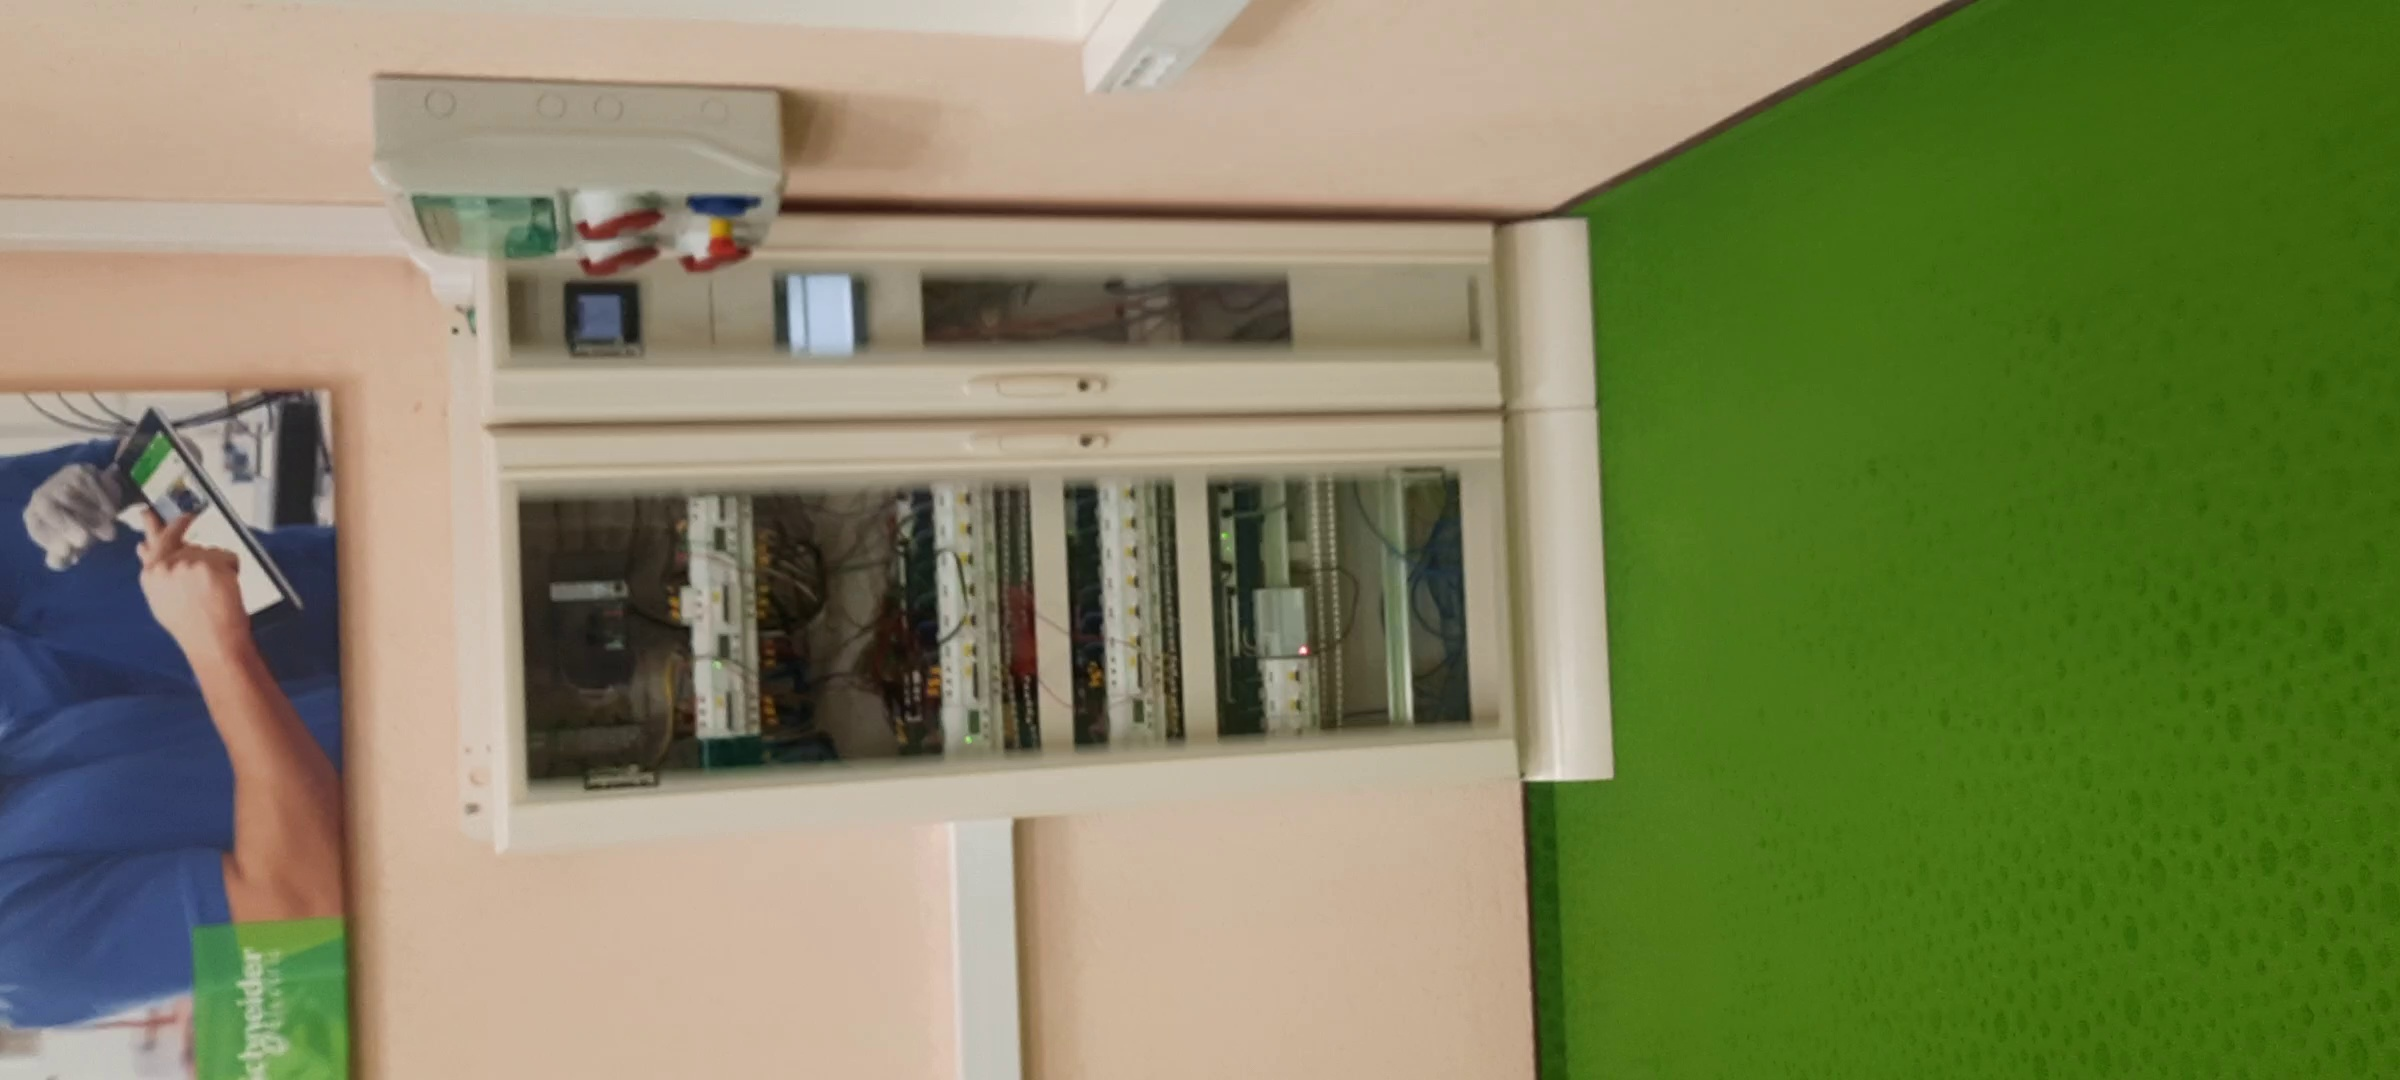stand1: (471, 242, 1593, 847)
